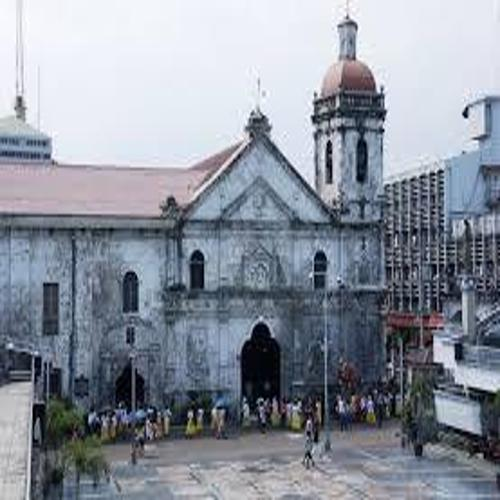Sto. Nino Basilica Church: (169, 1, 395, 442)
